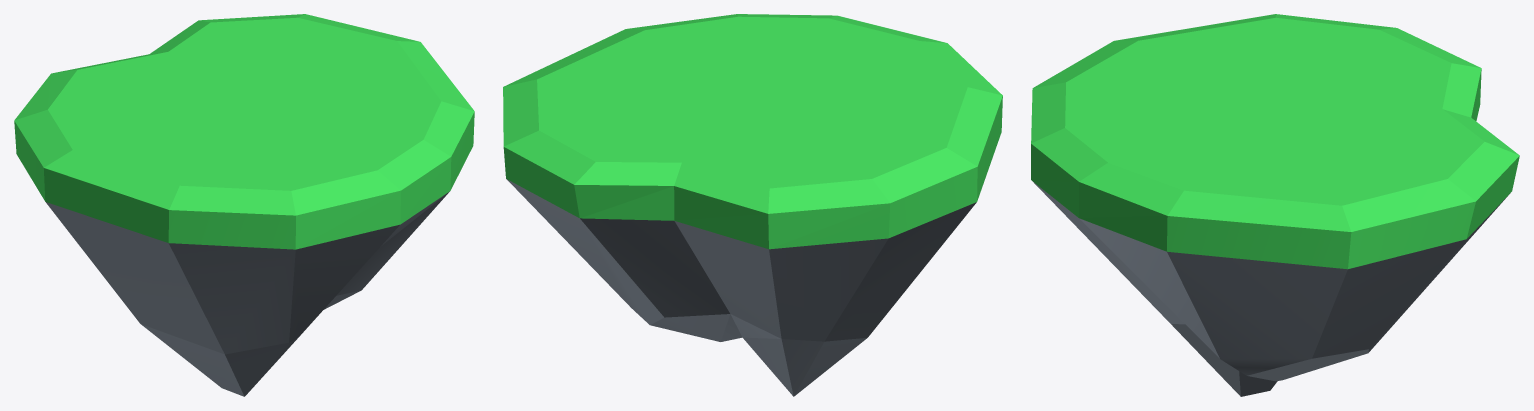
The model's file is testmodelsisland_Island_003__2_.fbx.
3 views of the same model, side by side, from view 1: azimuth 30°, elevation 25°; view 2: azimuth 150°, elevation 25°; view 3: azimuth 270°, elevation 25° (orthographic). The views are drawn at different scales.
Parts seen in each view (by area): view 1: island_Island_003__2_; view 2: island_Island_003__2_; view 3: island_Island_003__2_.
Boxes of the visible parts, x1=… form: island_Island_003__2_: x1=14, y1=14, x2=474, y2=396; island_Island_003__2_: x1=503, y1=14, x2=1002, y2=396; island_Island_003__2_: x1=1031, y1=14, x2=1519, y2=396.
Size of the model in its own units: 1512 by 957 by 1429.
